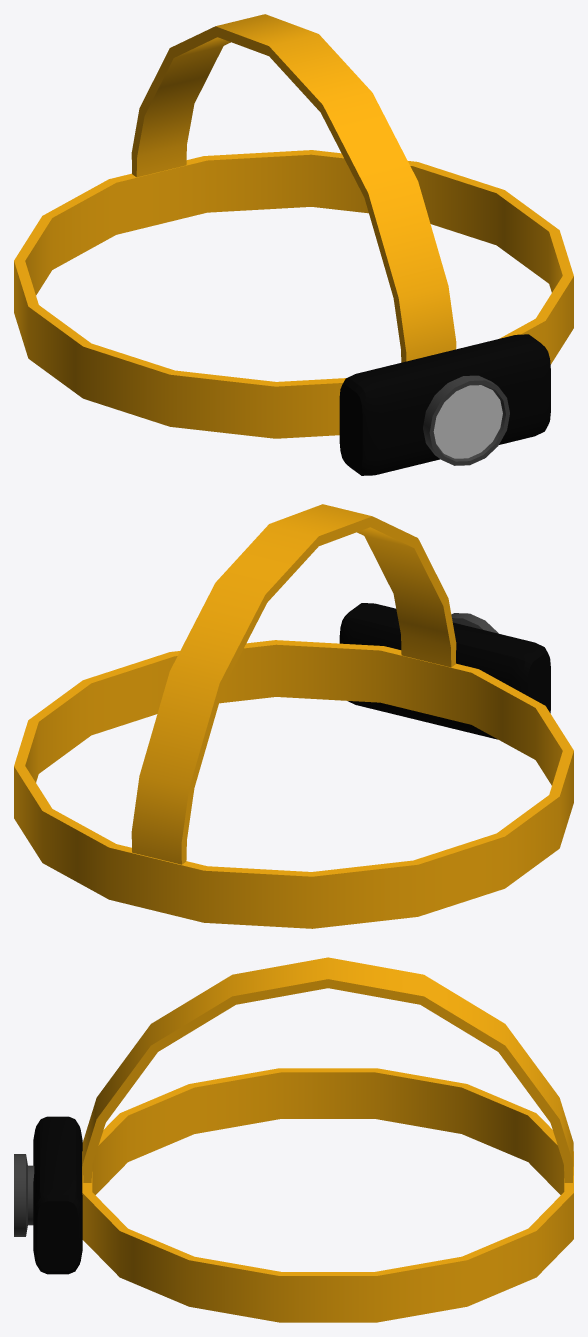
File: HeadFlashlight.fbx
3 views of the same model, one above another, from view 1: azimuth 30°, elevation 25°; view 2: azimuth 150°, elevation 25°; view 3: azimuth 270°, elevation 25° (orthographic). The views are drawn at different scales.
Visible parts, largest first — view 1: HeadFlashlight; view 2: HeadFlashlight; view 3: HeadFlashlight.
Boxes of the visible parts, left/top/right/bottom form: HeadFlashlight: left=14, top=14, right=573, bottom=475; HeadFlashlight: left=14, top=504, right=573, bottom=928; HeadFlashlight: left=14, top=957, right=573, bottom=1322.
Size of the model in its own units: 52.68 by 31.76 by 60.
